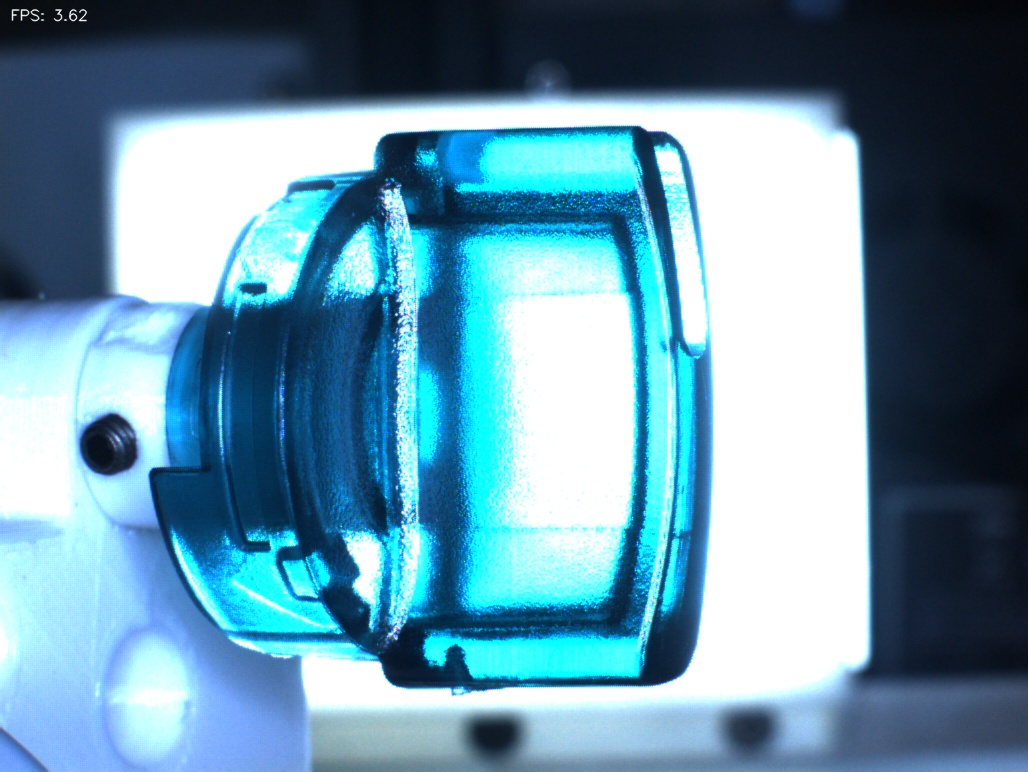Bulle: (419, 615, 488, 679)
